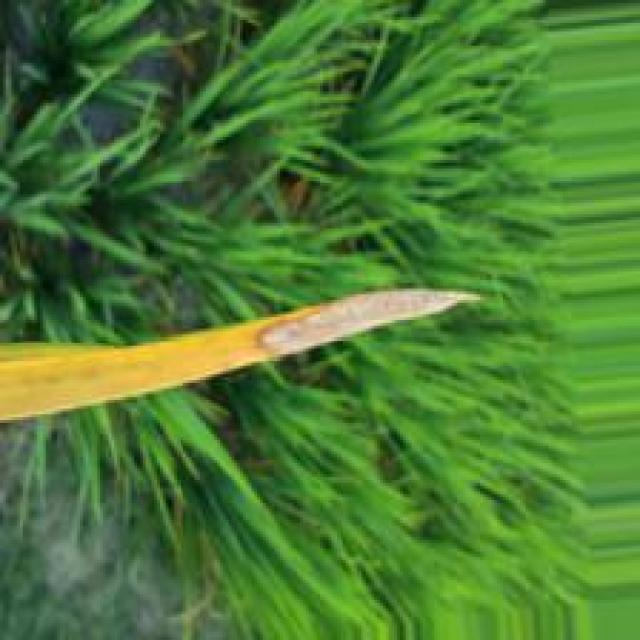Leaf_Scald: (256, 290, 454, 355)
